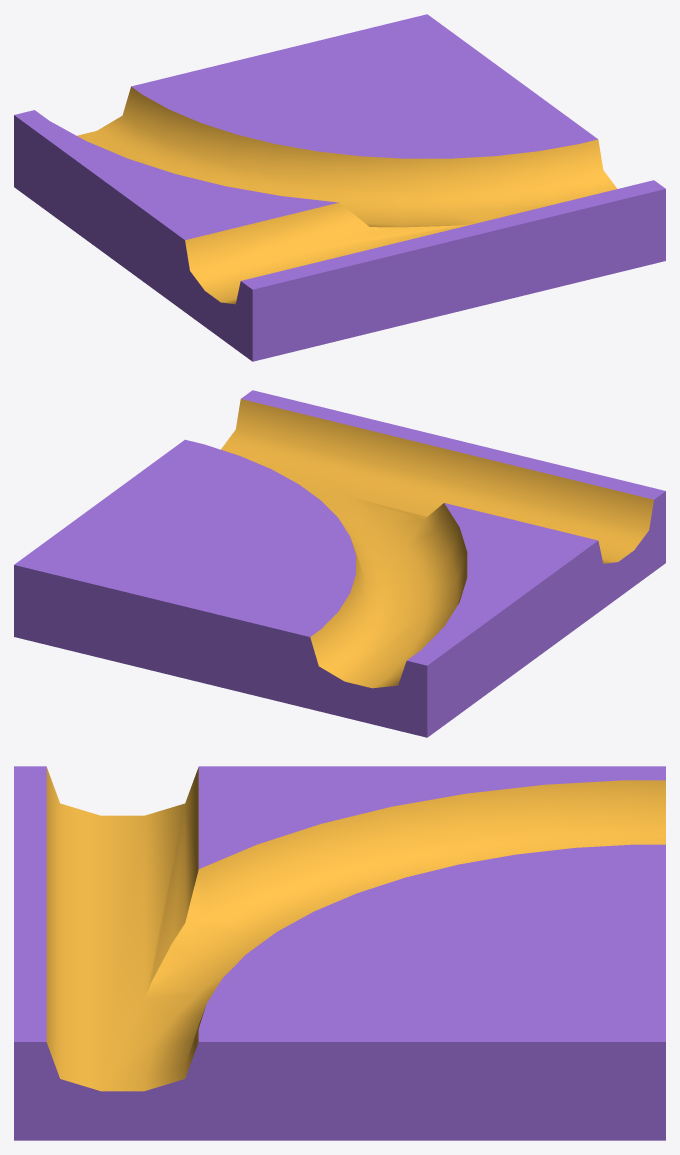
Rendered from split-large-solid-right-col.glb.
The picture shows the model from 3 angles, top to bottom: view 1: azimuth 30°, elevation 25°; view 2: azimuth 150°, elevation 25°; view 3: azimuth 270°, elevation 25°; orthographic projection. The views are drawn at different scales.
Visible parts, largest first — view 1: split-large-solid-right-col; view 2: split-large-solid-right-col; view 3: split-large-solid-right-col.
Boxes of the visible parts, x1,y1,x2,y2 form: split-large-solid-right-col: (14, 14, 665, 361); split-large-solid-right-col: (14, 390, 665, 737); split-large-solid-right-col: (14, 766, 665, 1140).
Bounding box in the file's own units: 3 × 0.5 × 3.
Materials: 1 (1 with a texture image).
